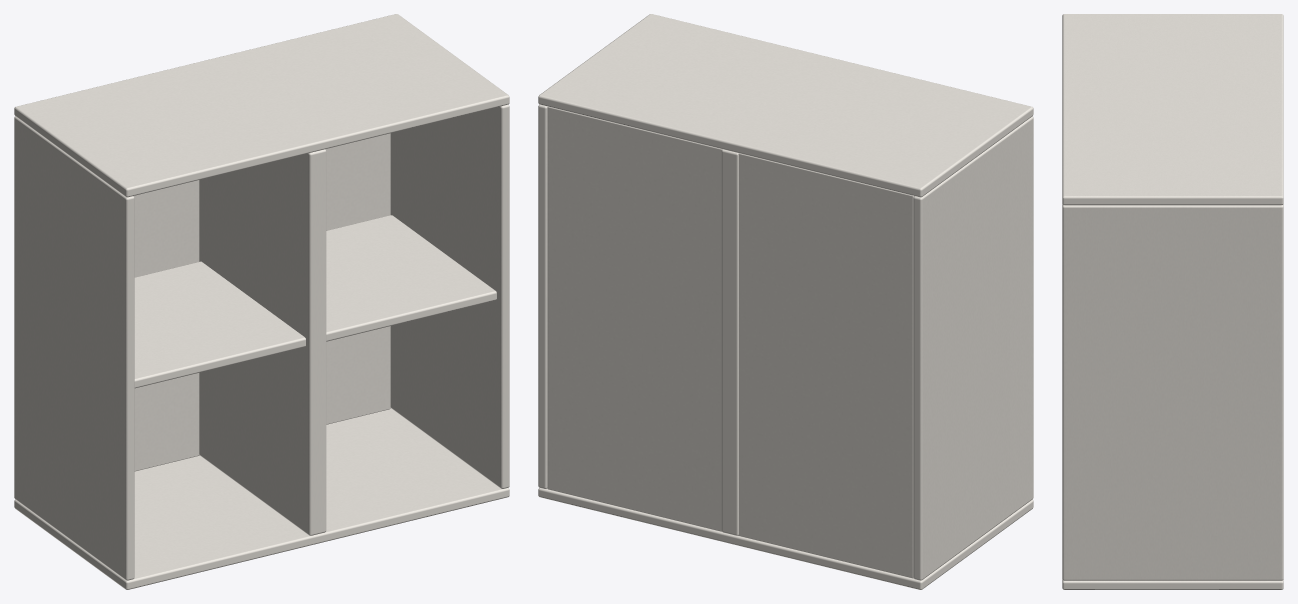
Rendered from kallax-mobile.glb.
The picture shows the model from 3 angles, left to right: view 1: azimuth 30°, elevation 25°; view 2: azimuth 150°, elevation 25°; view 3: azimuth 270°, elevation 25°; orthographic projection. The views are drawn at different scales.
Parts seen in each view (by area): view 1: KALLAX 2 × 2 shelving; view 2: KALLAX 2 × 2 shelving; view 3: KALLAX 2 × 2 shelving.
Boxes of the visible parts, <box> form: KALLAX 2 × 2 shelving: <box>14,14,509,589</box>; KALLAX 2 × 2 shelving: <box>538,14,1033,589</box>; KALLAX 2 × 2 shelving: <box>1062,14,1283,589</box>.
Size of the model in its own units: 0.765 by 0.765 by 0.39.
1 material, 1 textured.
